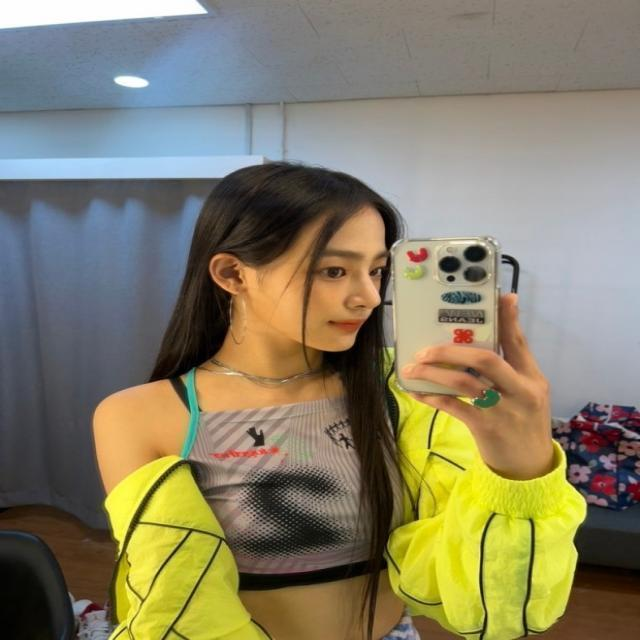lens: (437, 242, 492, 284)
phone: (389, 235, 508, 398)
